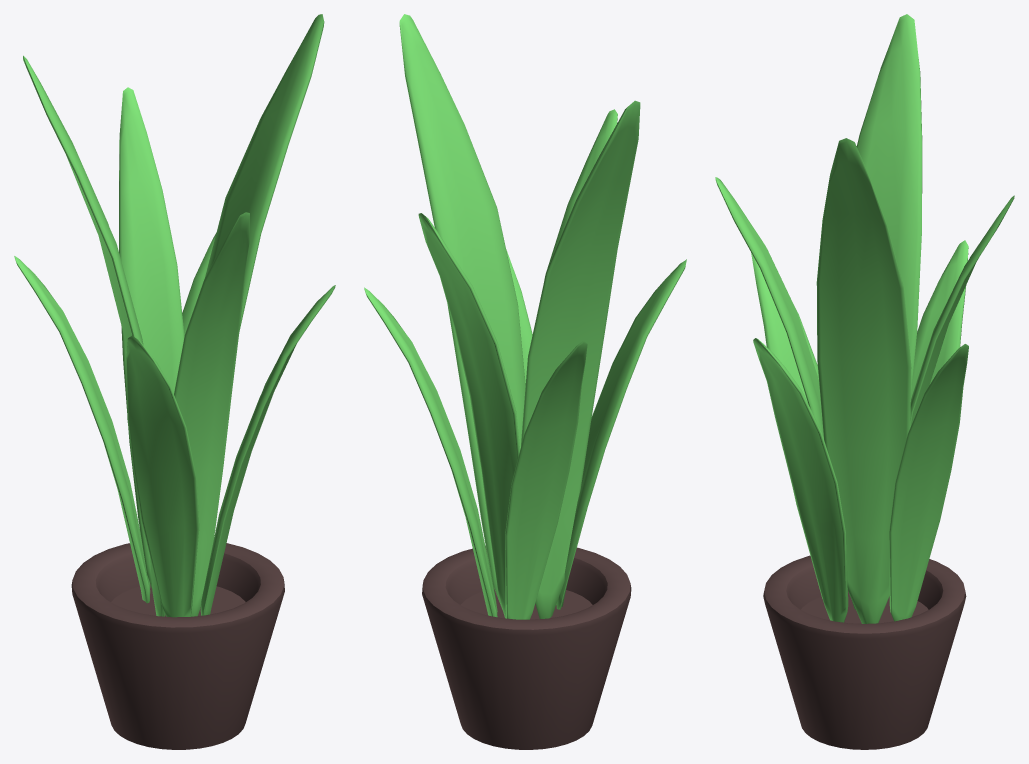
File: PlantBlockout_RB.fbx
The picture shows the model from 3 angles, left to right: view 1: azimuth 30°, elevation 25°; view 2: azimuth 150°, elevation 25°; view 3: azimuth 270°, elevation 25°; orthographic projection. The views are drawn at different scales.
Parts seen in each view (by area): view 1: PlantBlockout_RB, medium_leaf2, small_leaf1, medium_leaf1, big_leaf2, small_leaf2, big_leaf1, small_leaf3, small_leaf4; view 2: PlantBlockout_RB, big_leaf1, big_leaf2, small_leaf2, medium_leaf1, small_leaf1, small_leaf4, medium_leaf2, small_leaf3; view 3: big_leaf2, PlantBlockout_RB, big_leaf1, small_leaf4, small_leaf3, medium_leaf2, small_leaf2, medium_leaf1, small_leaf1.
Boxes of the visible parts, x1,y1,x2,y2 form: PlantBlockout_RB: [71, 543, 284, 749]; medium_leaf2: [174, 212, 249, 616]; small_leaf1: [126, 335, 199, 617]; medium_leaf1: [119, 87, 184, 588]; big_leaf2: [205, 14, 324, 331]; small_leaf2: [14, 256, 150, 603]; big_leaf1: [23, 55, 164, 616]; small_leaf3: [200, 285, 335, 615]; small_leaf4: [182, 232, 216, 335]; PlantBlockout_RB: [422, 546, 631, 749]; big_leaf1: [521, 100, 640, 618]; big_leaf2: [399, 14, 525, 609]; small_leaf2: [505, 341, 587, 619]; medium_leaf1: [418, 213, 520, 618]; small_leaf1: [556, 259, 686, 609]; small_leaf4: [364, 287, 497, 617]; medium_leaf2: [544, 109, 617, 279]; small_leaf3: [506, 249, 532, 382]; big_leaf2: [816, 138, 911, 623]; PlantBlockout_RB: [763, 555, 966, 749]; big_leaf1: [852, 14, 922, 609]; small_leaf4: [889, 344, 968, 621]; small_leaf3: [753, 338, 848, 622]; medium_leaf2: [715, 177, 823, 438]; small_leaf2: [911, 240, 968, 398]; medium_leaf1: [910, 195, 1014, 427]; small_leaf1: [751, 252, 822, 598].
Bounding box in the file's own units: 1.88 × 4.56 × 1.91.
